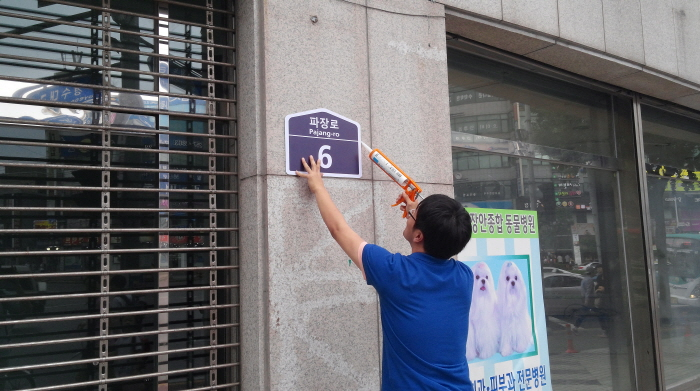building_license_plate1: (285, 108, 362, 178)
